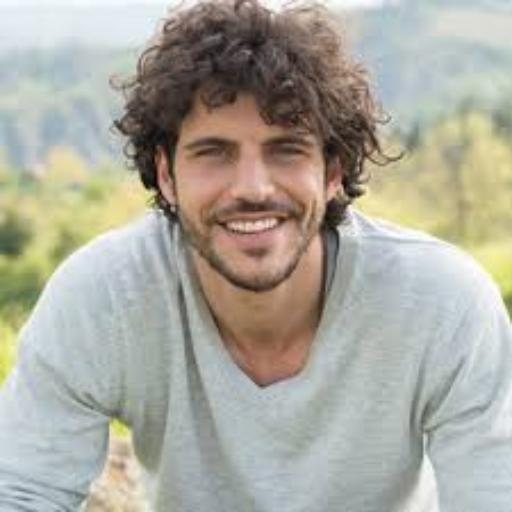left_eye: (272, 147, 313, 163)
left_lip_corner: (281, 211, 299, 228)
right_eye: (191, 147, 233, 165)
right_lip_corner: (212, 218, 231, 235)
